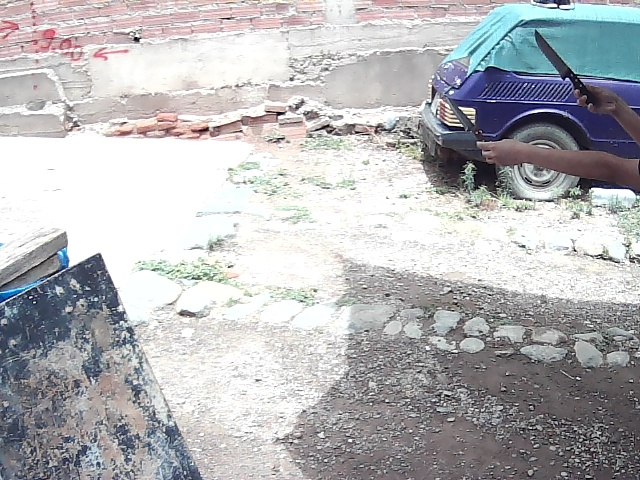cuchillo: (528, 26, 591, 93)
